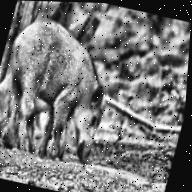boar: (0, 4, 148, 191)
